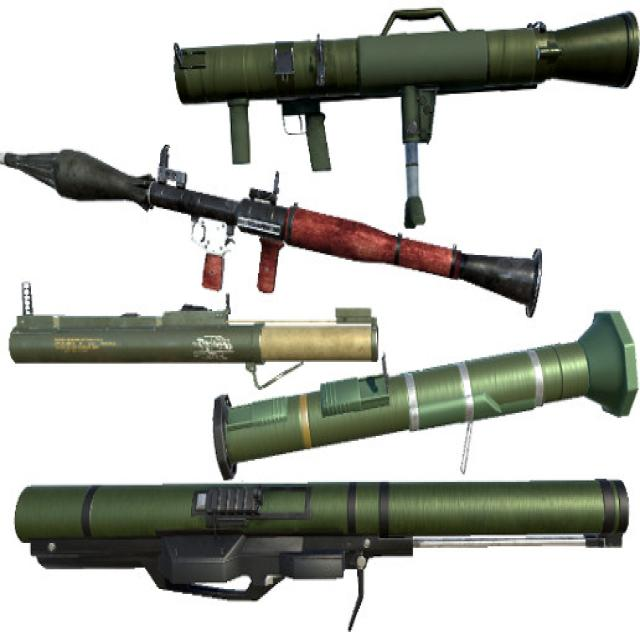bazooka: (6, 101, 596, 337), (141, 6, 640, 241), (13, 465, 639, 618), (195, 292, 640, 494), (4, 264, 405, 398)
